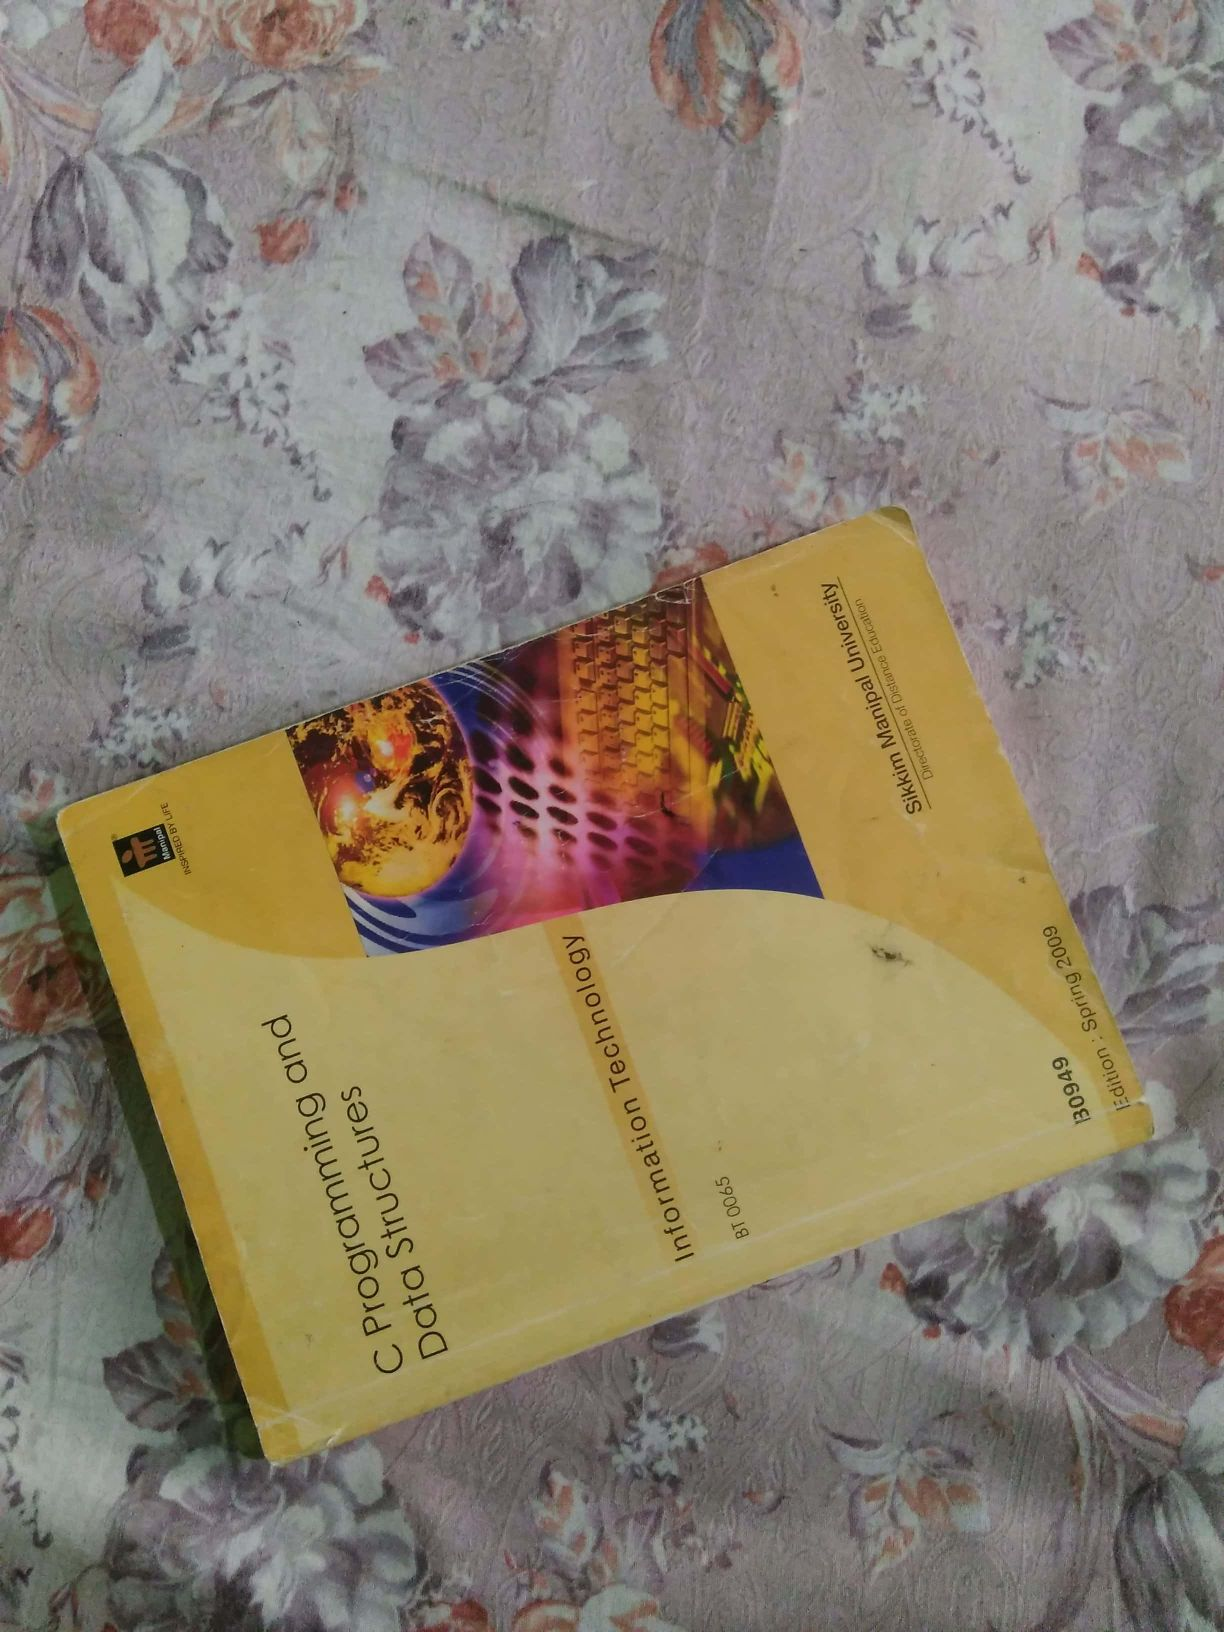clang: (105, 492, 1088, 1392)
